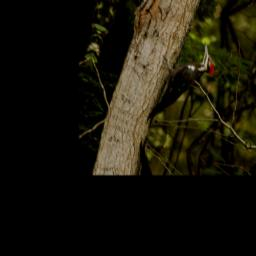Woodpecker: (141, 24, 222, 147)
